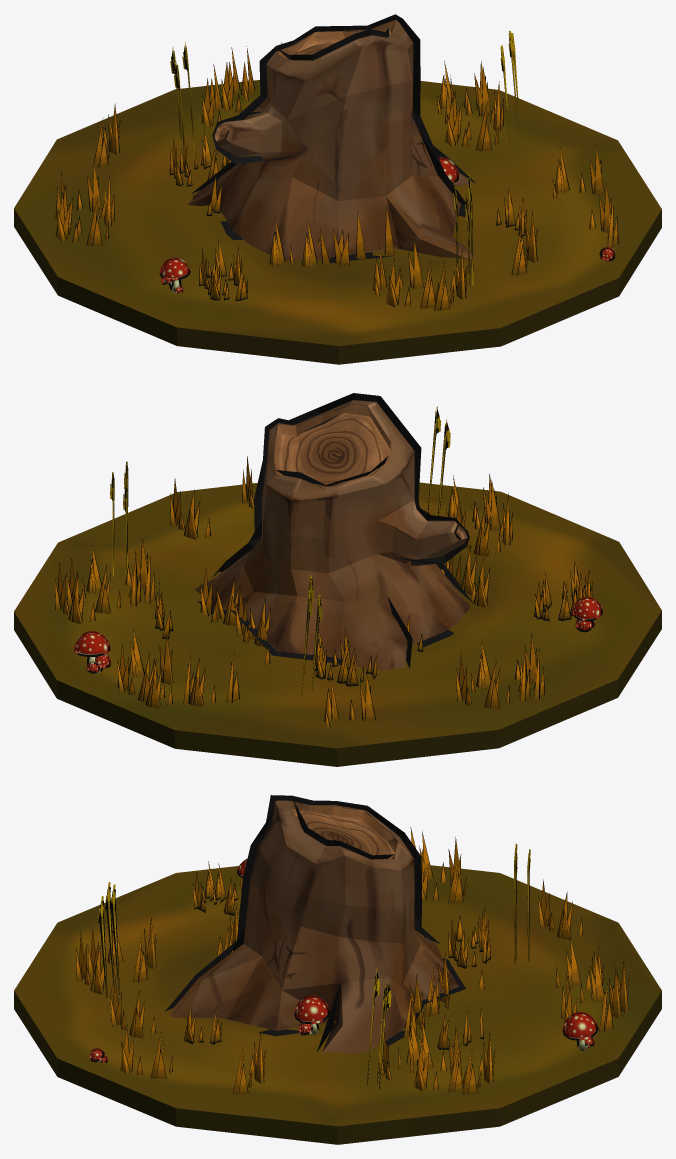
Rendered from TreeStump.gltf.
3 renders of one model, top to bottom at view 1: azimuth 30°, elevation 25°; view 2: azimuth 150°, elevation 25°; view 3: azimuth 270°, elevation 25°, orthographic.
Visible parts, largest first — view 1: Base, Stump, Grass, Wheats, Mushrooms; view 2: Base, Stump, Grass, Wheats, Mushrooms; view 3: Base, Stump, Grass, Wheats, Mushrooms.
Boxes of the visible parts, box(x1,y1,x2,y2) form: Base: box(14, 80, 661, 364); Stump: box(188, 14, 476, 262); Grass: box(55, 42, 618, 310); Wheats: box(170, 30, 521, 289); Mushrooms: box(159, 157, 615, 293); Base: box(14, 482, 661, 766); Stump: box(195, 393, 472, 670); Grass: box(55, 456, 592, 728); Wheats: box(110, 406, 450, 695); Mushrooms: box(74, 596, 602, 673); Base: box(14, 865, 661, 1144); Stump: box(165, 795, 465, 1053); Grass: box(76, 827, 628, 1094); Wheats: box(98, 843, 530, 1089); Mushrooms: box(89, 859, 598, 1063).
Bounding box in the file's own units: 8.54 × 3.11 × 8.61.
Materials: 9 (6 with a texture image).
